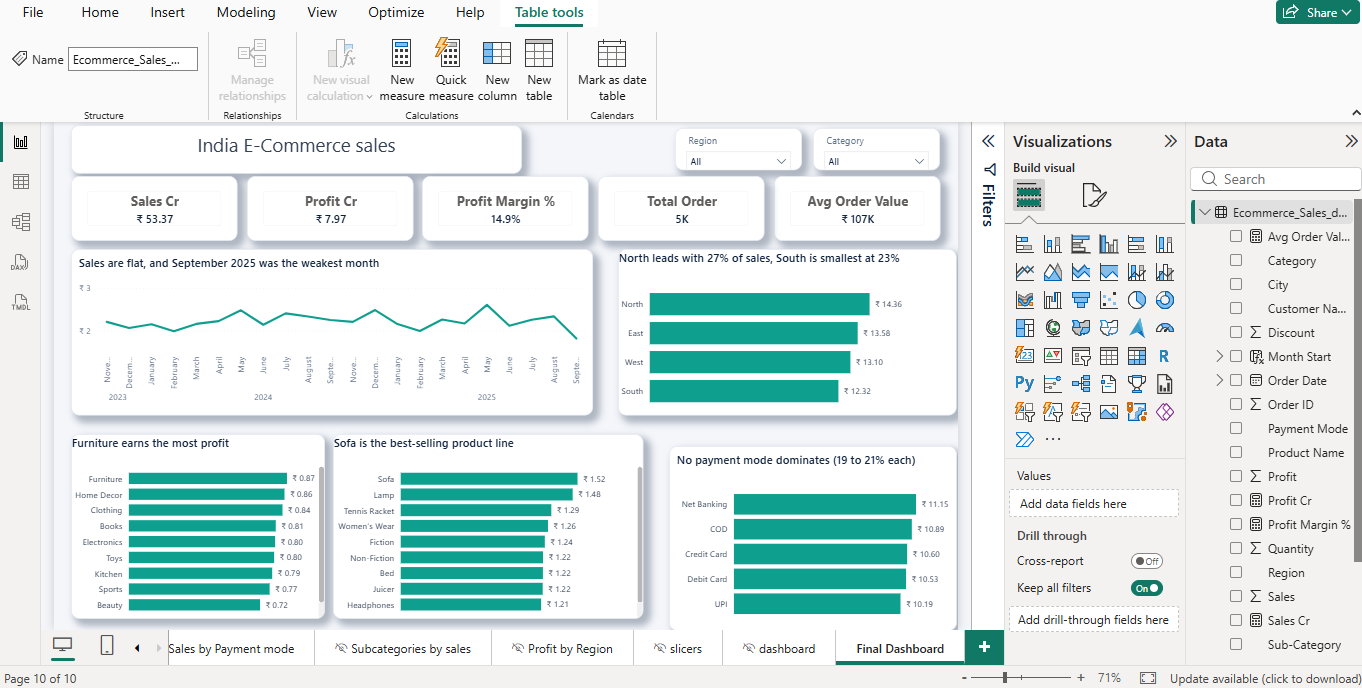

The dashboard page shown, as its layout file describes it:
{"tool":"powerbi","page":{"name":"Final Dashboard","canvas":[1280,720],"ordinal":9},"visuals":[{"type":"textbox","box":[24.1,4.3,639.2,69.4],"z":0},{"type":"slicer","fields":{"Values":["Ecommerce_Sales_data.Region"]},"box":[880,8,180,60],"z":1000},{"type":"slicer","fields":{"Values":["Ecommerce_Sales_data.Category"]},"box":[1076,8,180,60],"z":2000},{"type":"cardVisual","fields":{"Data":["Ecommerce_Sales_data.Sales Cr"]},"box":[24,76,236,92],"z":3000},{"type":"cardVisual","fields":{"Data":["Ecommerce_Sales_data.Profit Cr"]},"box":[273,76,236,92],"z":4000},{"type":"cardVisual","fields":{"Data":["Ecommerce_Sales_data.Profit Margin %"]},"box":[522,76,236,92],"z":5000},{"type":"cardVisual","fields":{"Data":["Ecommerce_Sales_data.Avg Order Value"]},"box":[1020,76,236,92],"z":6000},{"type":"cardVisual","title":"Total Order","fields":{"Data":["Ecommerce_Sales_data.total orders"]},"box":[771,76,236,92],"z":7000},{"type":"lineChart","title":"Sales are flat, and September 2025 was the weakest month","fields":{"Y":["Ecommerce_Sales_data.Sales Cr"],"Category":["Ecommerce_Sales_data.Month Start.Variation.Date Hierarchy.Year","Ecommerce_Sales_data.Month Start.Variation.Date Hierarchy.Month"]},"box":[24,180,740,236],"z":7001},{"type":"clusteredBarChart","title":"North leads with 27% of sales, South is smallest at 23%","fields":{"Category":["Ecommerce_Sales_data.Region"],"Y":["Ecommerce_Sales_data.Sales Cr"]},"box":[799.6,180,480,236],"z":7002},{"type":"clusteredBarChart","title":"Furniture earns the most profit","fields":{"Category":["Ecommerce_Sales_data.Category"],"Y":["Ecommerce_Sales_data.Profit Cr"]},"box":[24,442,360,262],"z":7003},{"type":"clusteredBarChart","title":"Sofa is the best-selling product line","fields":{"Category":["Ecommerce_Sales_data.Sub-Category"],"Y":["Ecommerce_Sales_data.Sales Cr"]},"box":[396,442,440,262],"z":7004},{"type":"clusteredBarChart","title":"No payment mode dominates (19 to 21% each)","fields":{"Category":["Ecommerce_Sales_data.Payment Mode"],"Y":["Ecommerce_Sales_data.Sales Cr"]},"box":[871.8,458.6,408,262],"z":7005}]}

Visuals, with their boxes on the page's 1280x720 design canvas (x1, y1, x2, y2). These are canvas units, not pixel positions in the 1362x688 screenshot, which may show the page scaled, cropped or inside an application window:
textbox: detection(24, 4, 663, 74)
slicer - Ecommerce_Sales_data.Region: detection(880, 8, 1060, 68)
slicer - Ecommerce_Sales_data.Category: detection(1076, 8, 1256, 68)
cardVisual - Ecommerce_Sales_data.Sales Cr: detection(24, 76, 260, 168)
cardVisual - Ecommerce_Sales_data.Profit Cr: detection(273, 76, 509, 168)
cardVisual - Ecommerce_Sales_data.Profit Margin %: detection(522, 76, 758, 168)
cardVisual - Ecommerce_Sales_data.Avg Order Value: detection(1020, 76, 1256, 168)
"Total Order" cardVisual: detection(771, 76, 1007, 168)
"Sales are flat, and September 2025 was the weakest month" lineChart: detection(24, 180, 764, 416)
"North leads with 27% of sales, South is smallest at 23%" clusteredBarChart: detection(800, 180, 1280, 416)
"Furniture earns the most profit" clusteredBarChart: detection(24, 442, 384, 704)
"Sofa is the best-selling product line" clusteredBarChart: detection(396, 442, 836, 704)
"No payment mode dominates (19 to 21% each)" clusteredBarChart: detection(872, 459, 1280, 721)
